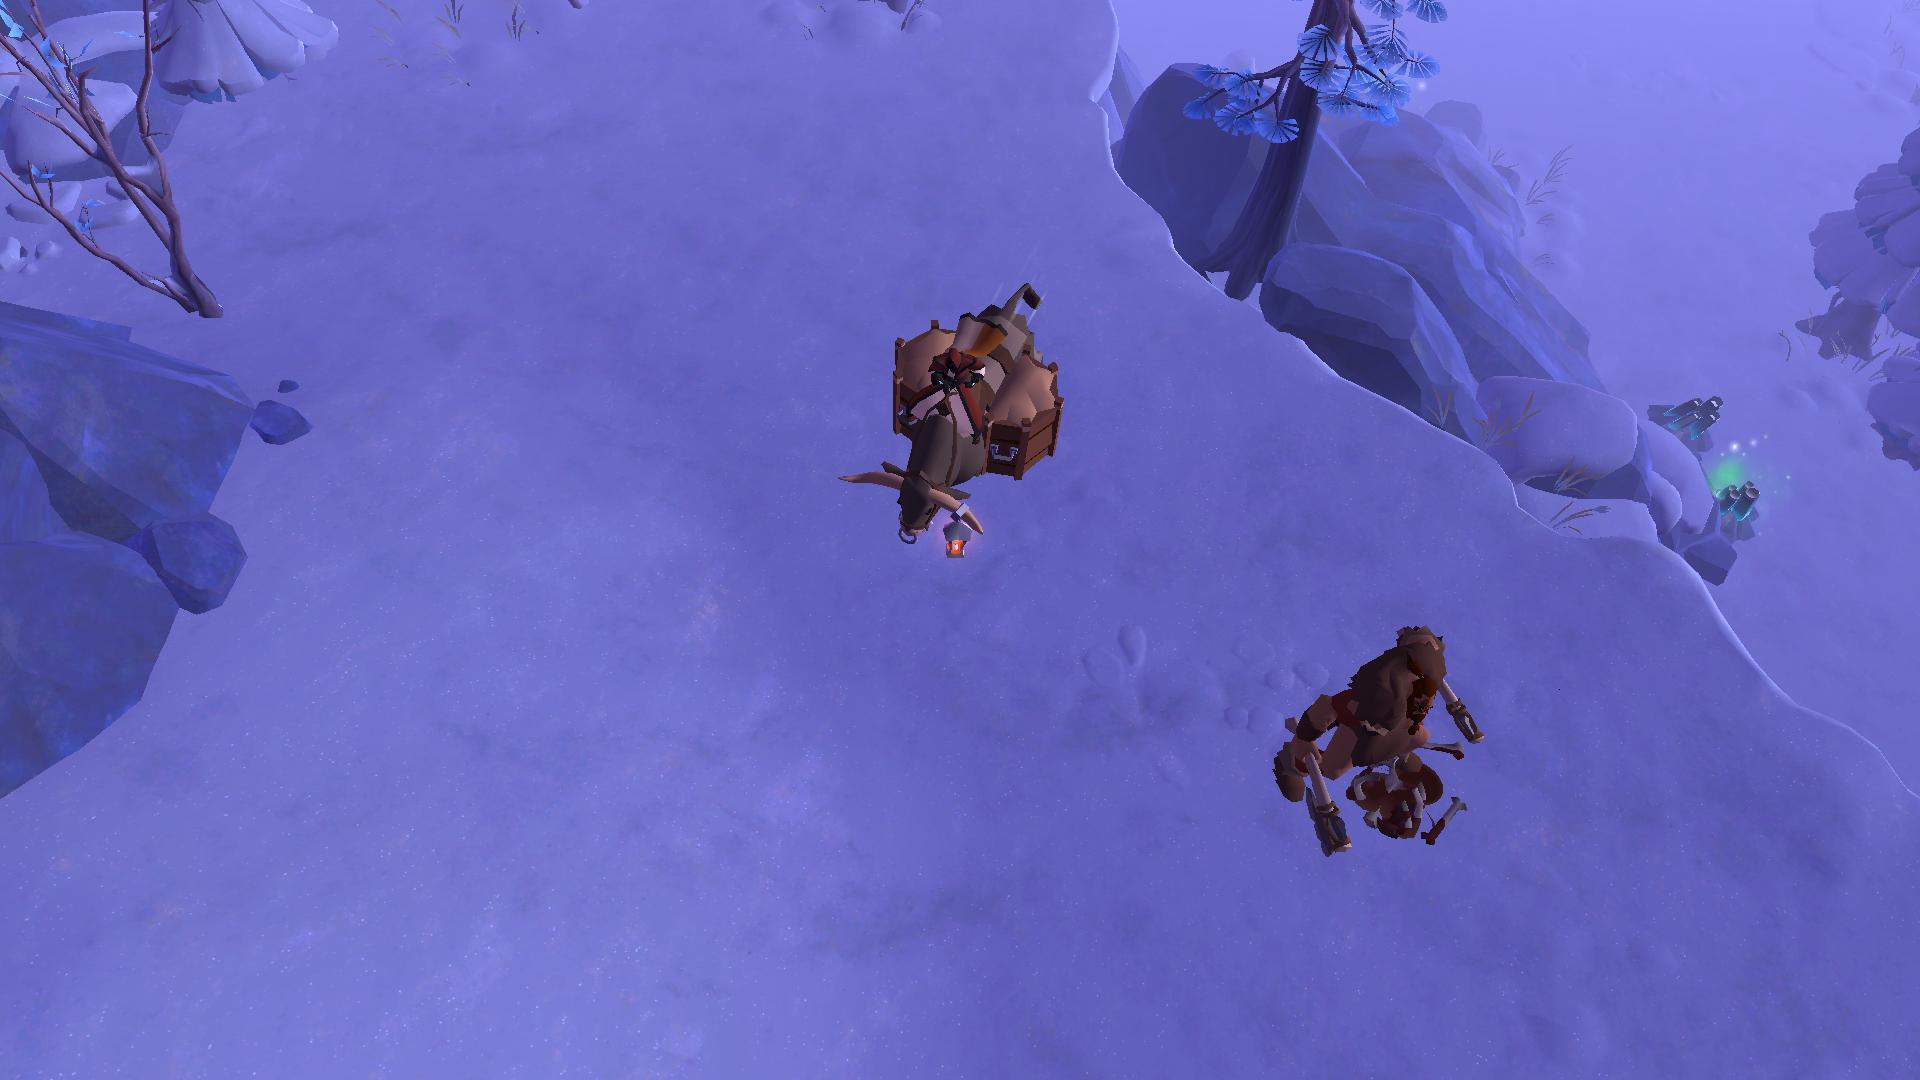enemy_factionKeeper: (1283, 624, 1464, 833)
ore_t4: (1663, 388, 1718, 439), (1714, 472, 1756, 529)
